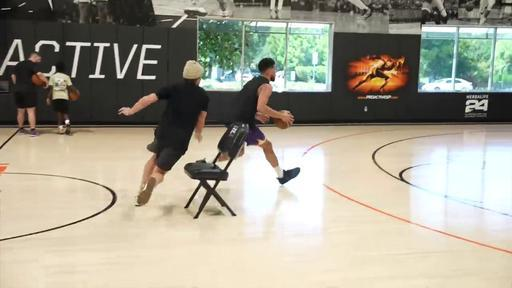ball: (274, 117, 293, 128), (32, 74, 44, 86), (68, 90, 78, 101)
human: (118, 60, 210, 206), (225, 58, 300, 184), (12, 52, 48, 137), (47, 62, 80, 134)
